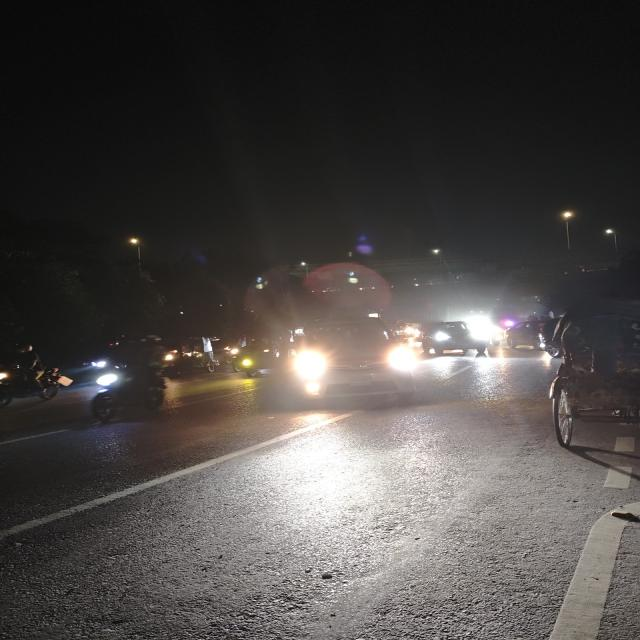bus: (544, 298, 640, 474)
car: (419, 320, 492, 358)
motorcycle: (85, 338, 183, 423), (0, 356, 71, 409)
rickshaw: (544, 300, 640, 474)
truck: (225, 256, 416, 416)
